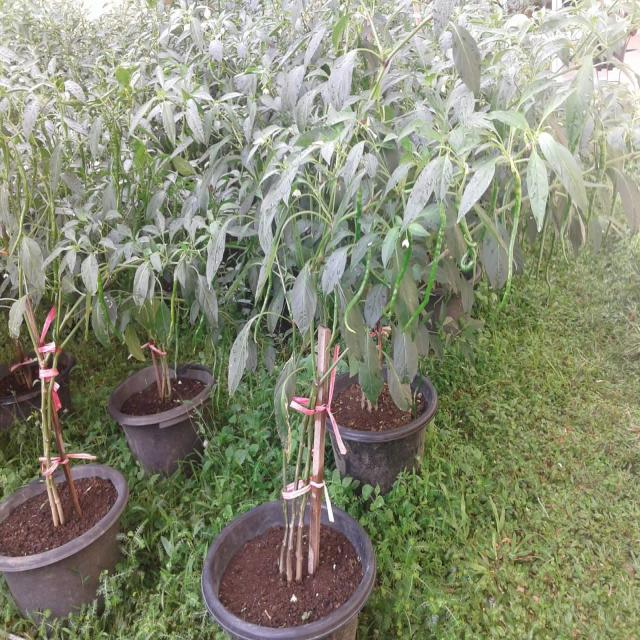sehat: (522, 152, 556, 232), (217, 325, 257, 393), (288, 262, 321, 340), (193, 276, 228, 335), (318, 236, 348, 299), (360, 335, 385, 404), (357, 287, 392, 333)
